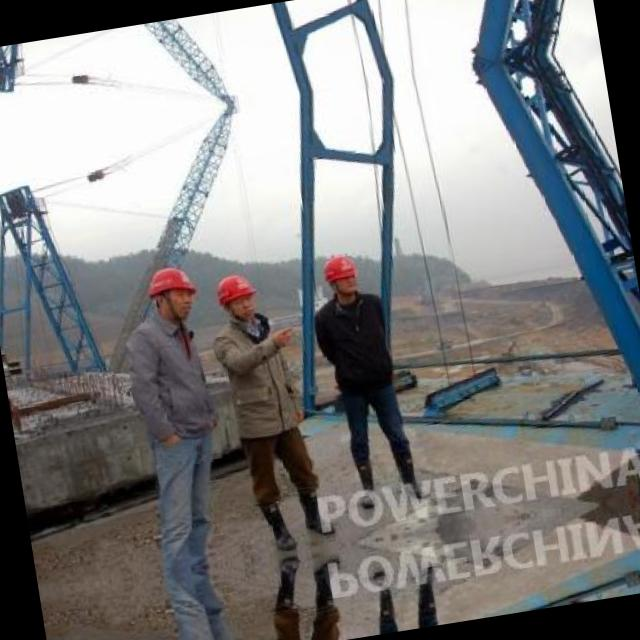helmet: (142, 259, 203, 328), (212, 267, 262, 324), (318, 254, 362, 305)
